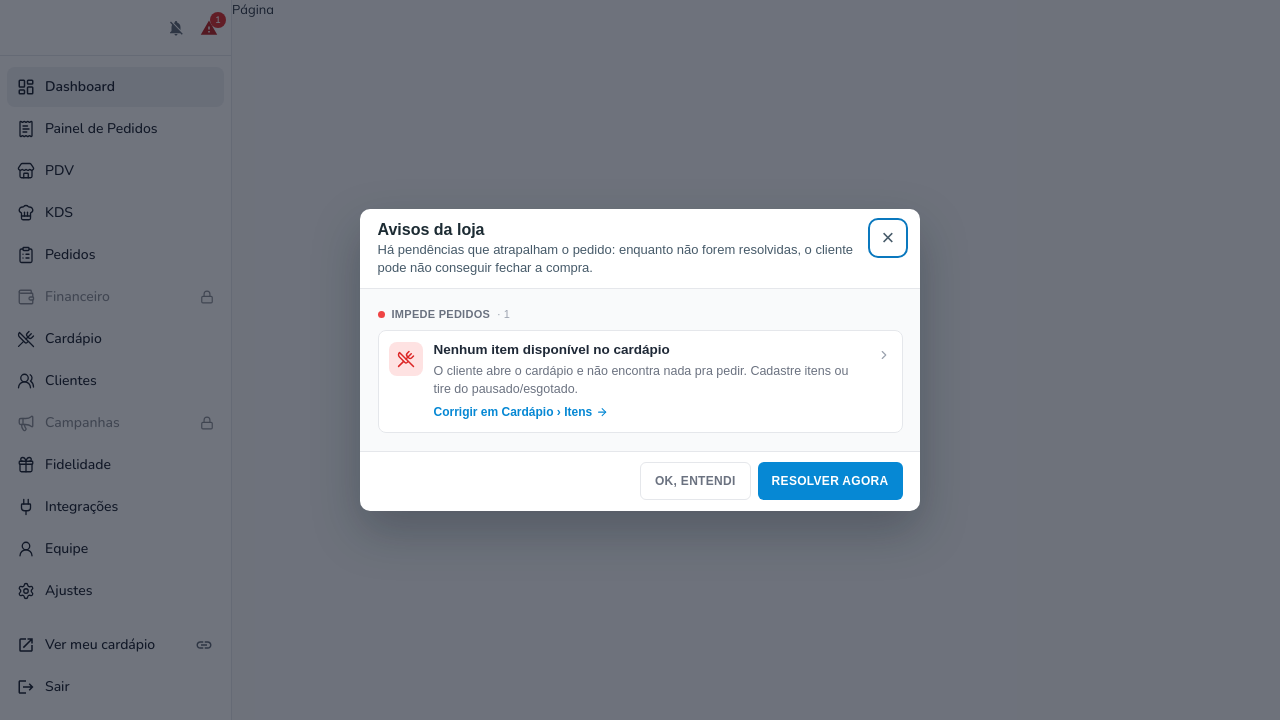
Test: AdminLayout — checklist de configuração › "Resolver agora" navega para a seção e fecha o alerta
Check: the dialog is shown, box [360,209,920,511]
Click the button "Resolver agora" at (830, 481), box [758,462,902,500]
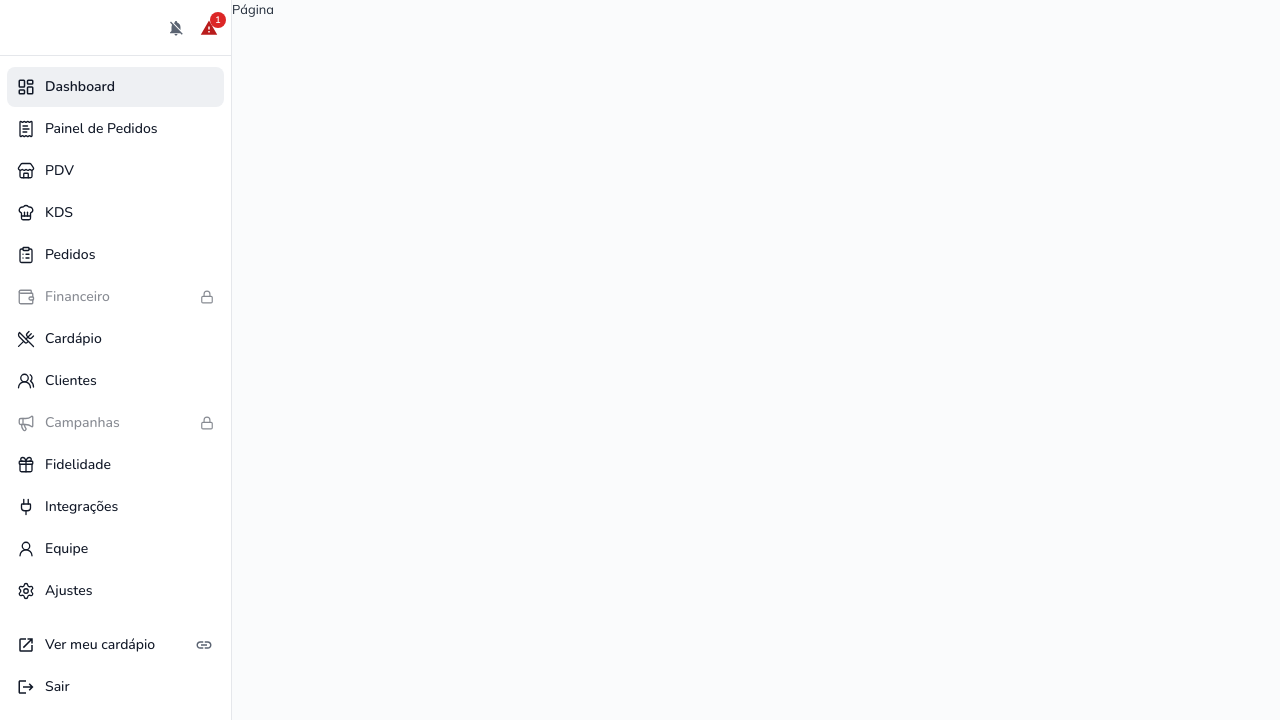
Check: the dialog is gone
